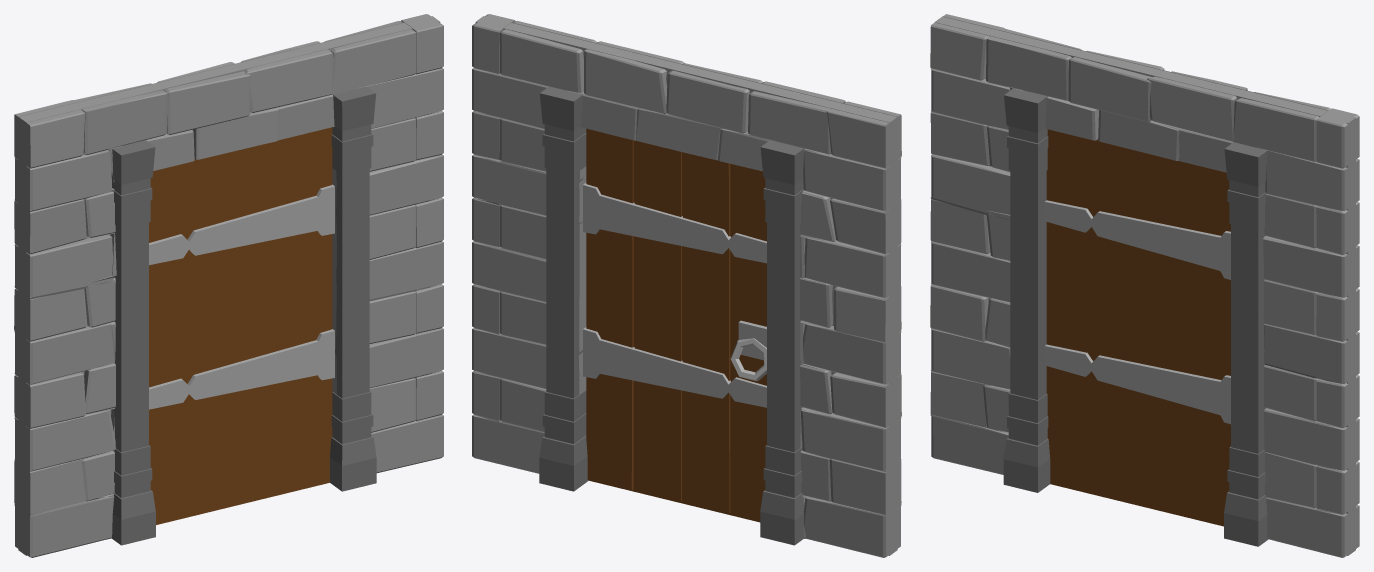
The model's file is MardoConPuerta.fbx.
3 views of the same model, side by side, from view 1: azimuth 30°, elevation 25°; view 2: azimuth 150°, elevation 25°; view 3: azimuth 330°, elevation 25° (orthographic).
Visible parts, largest first — view 1: DoorWALL, Door; view 2: DoorWALL, Door; view 3: DoorWALL, Door.
Boxes of the visible parts, left/top/right/bottom form: DoorWALL: left=14, top=14, right=443, bottom=557; Door: left=149, top=127, right=334, bottom=524; DoorWALL: left=472, top=14, right=901, bottom=557; Door: left=583, top=128, right=766, bottom=522; DoorWALL: left=930, top=14, right=1359, bottom=557; Door: left=1044, top=129, right=1230, bottom=526.
Bounding box in the file's own units: 300 × 300 × 42.64.
